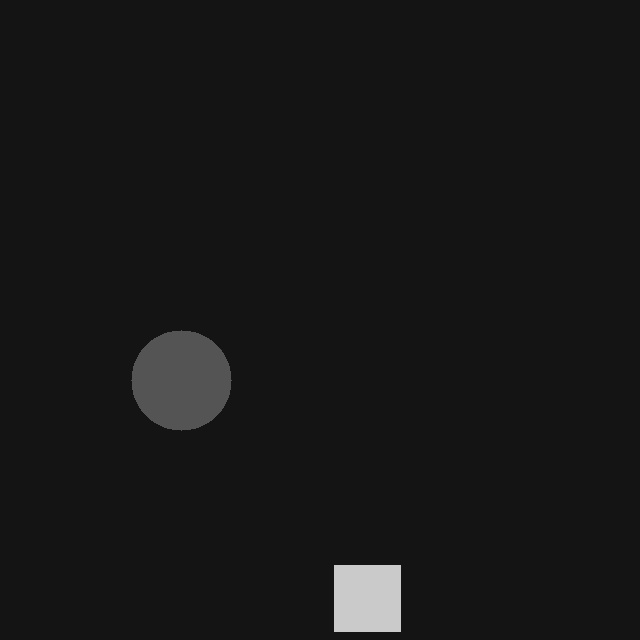circle: (131, 330, 231, 430)
square: (334, 565, 400, 631)
